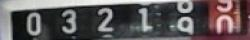digits: (213, 0, 237, 36), (174, 0, 195, 36), (136, 6, 152, 35), (96, 6, 113, 31), (60, 9, 76, 34), (26, 12, 42, 34)
